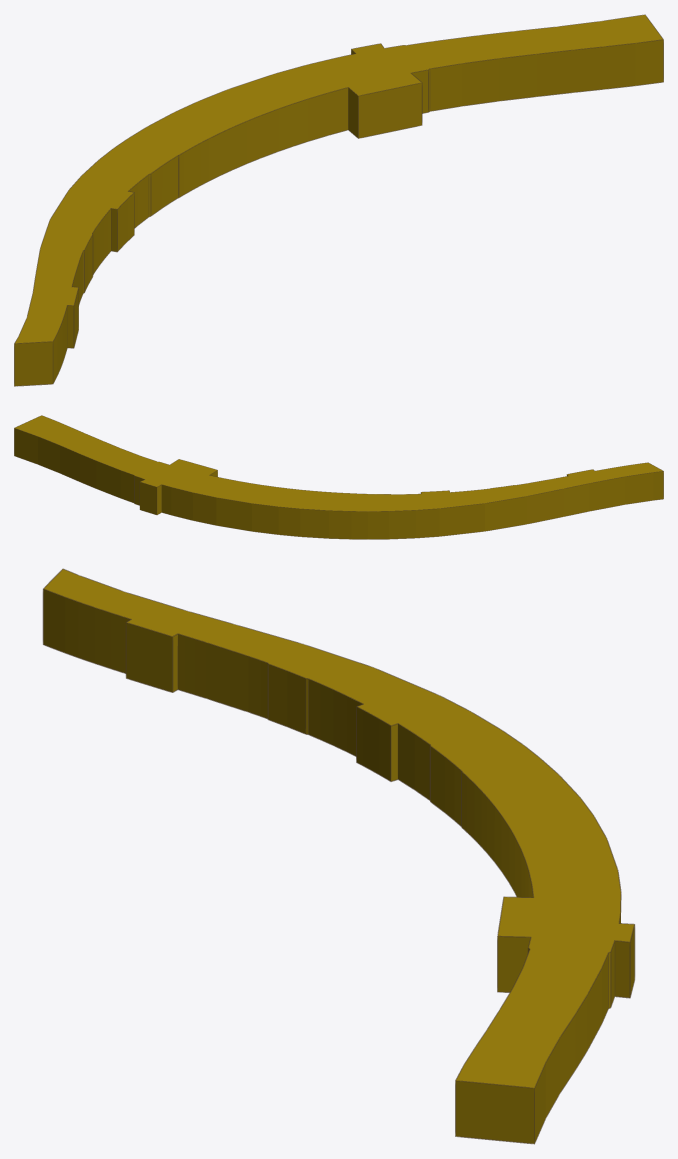
The model's file is 望海路第三段.glb.
3 renders of one model, top to bottom at view 1: azimuth 30°, elevation 25°; view 2: azimuth 150°, elevation 25°; view 3: azimuth 270°, elevation 25°, orthographic. The views are drawn at different scales.
Parts seen in each view (by area): view 1: 望海路第3段; view 2: 望海路第3段; view 3: 望海路第3段.
Boxes of the visible parts, <box> form: 望海路第3段: <box>14,14,663,386</box>; 望海路第3段: <box>14,415,663,539</box>; 望海路第3段: <box>42,568,635,1144</box>.
Size of the model in its own units: 470 by 24.18 by 226.
Materials: 2 (1 with a texture image).
